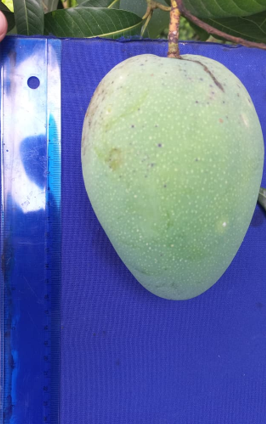Mango-sano: (81, 54, 263, 299)
